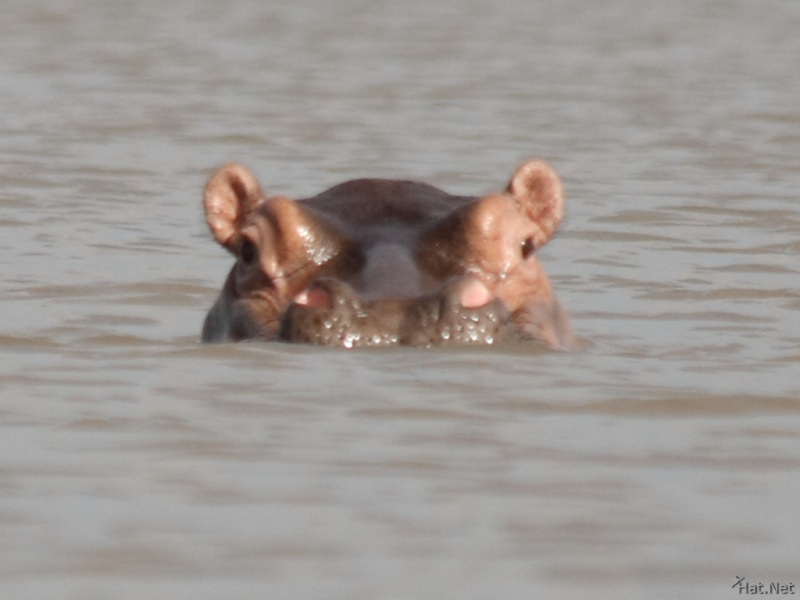hipopotamo: (181, 145, 593, 356)
